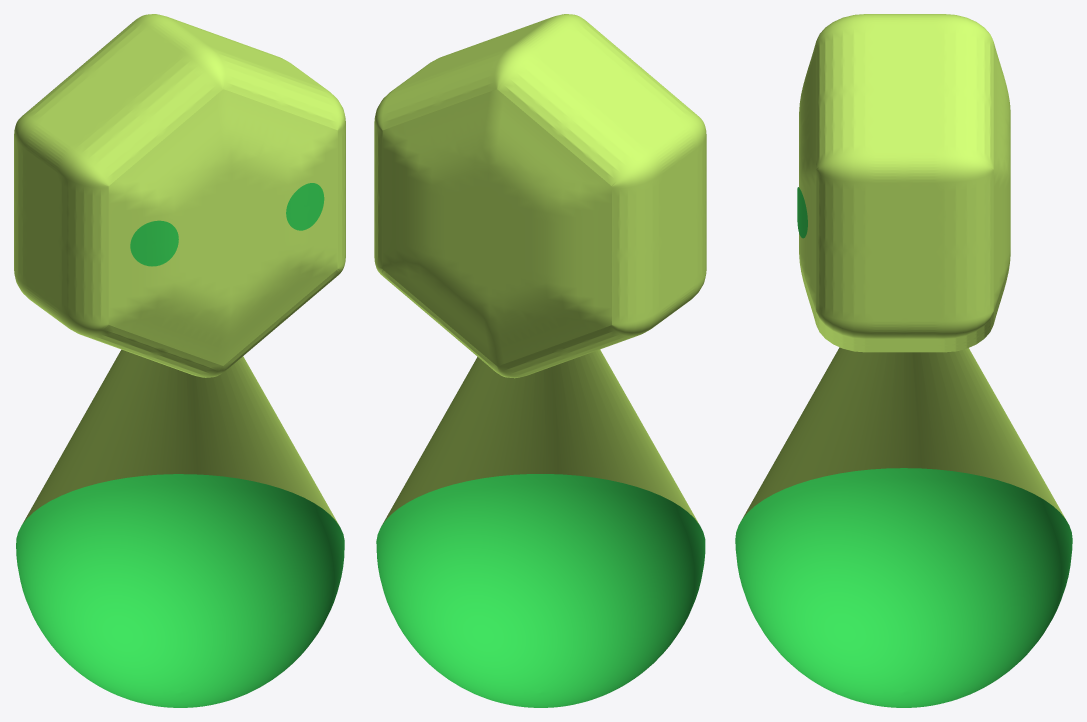
The model's file is cone-hexagon-green.glb.
The picture shows the model from 3 angles, left to right: view 1: azimuth 30°, elevation 25°; view 2: azimuth 150°, elevation 25°; view 3: azimuth 270°, elevation 25°; orthographic projection. The views are drawn at different scales.
Visible parts, largest first — view 1: head-shell, bowl, cone, eye (×2); view 2: head-shell, bowl, cone; view 3: head-shell, bowl, cone.
Boxes of the visible parts, bbox=[...] form: head-shell: bbox=[14, 14, 345, 377]; bowl: bbox=[16, 474, 344, 707]; cone: bbox=[22, 349, 339, 525]; eye (×2): bbox=[130, 183, 324, 266]; head-shell: bbox=[374, 14, 706, 378]; bowl: bbox=[376, 474, 705, 707]; cone: bbox=[382, 349, 698, 524]; head-shell: bbox=[799, 14, 1010, 352]; bowl: bbox=[735, 468, 1072, 707]; cone: bbox=[742, 347, 1065, 518].
Size of the model in its own units: 1 by 2.21 by 1.
